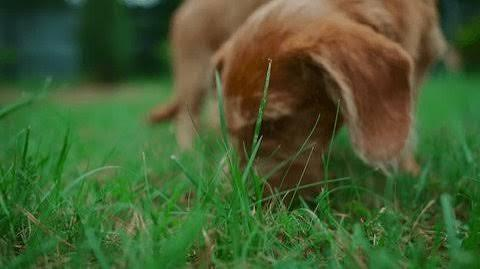puppy-dog: (146, 0, 453, 214)
